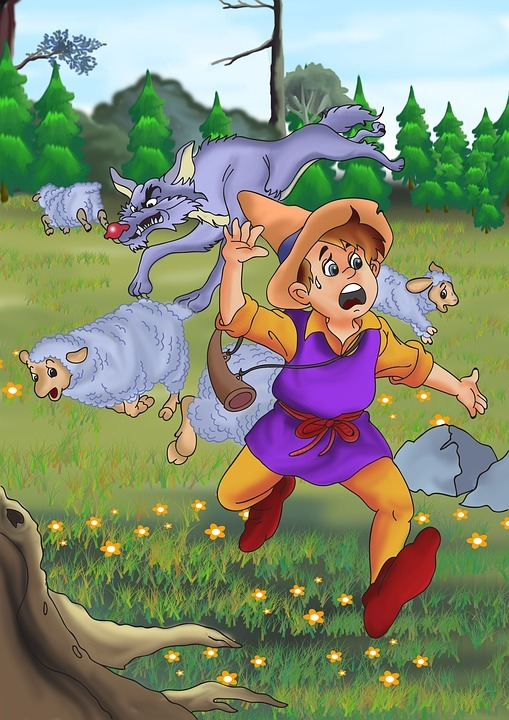person: (215, 185, 488, 641)
sheep: (16, 299, 194, 425), (167, 337, 290, 468), (368, 260, 464, 348), (33, 180, 115, 236)
